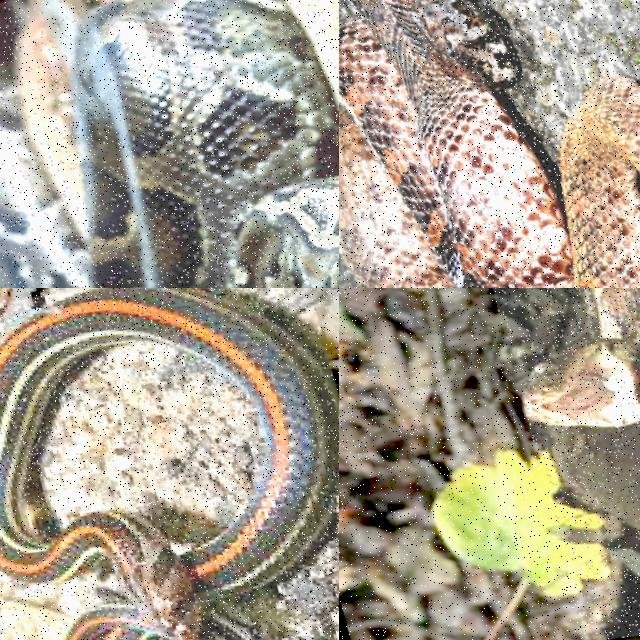Calliophis intestinalis: (0, 288, 338, 639)
Malayopython reticulatus: (525, 288, 639, 428)
Ovophis monticola: (339, 0, 639, 287)
Python bivittatus: (0, 0, 338, 287)
